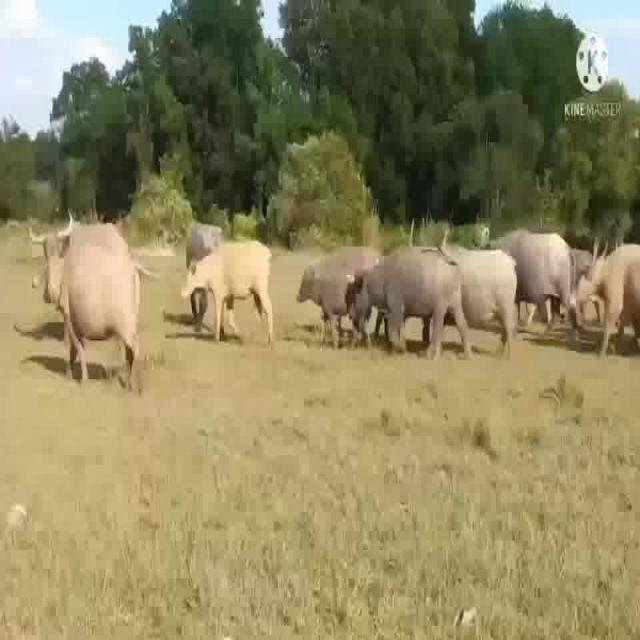buffalo: (43, 214, 148, 393), (346, 242, 471, 360), (184, 227, 280, 351), (505, 227, 580, 340), (588, 240, 640, 364)
